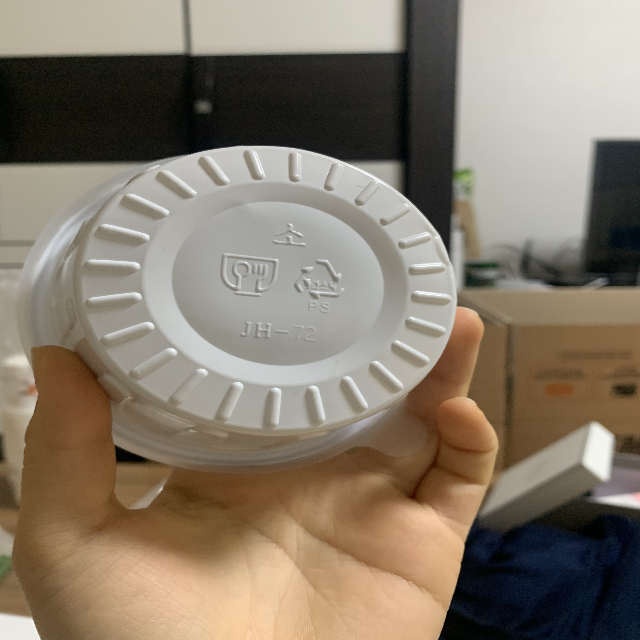ps: (287, 252, 347, 316)
